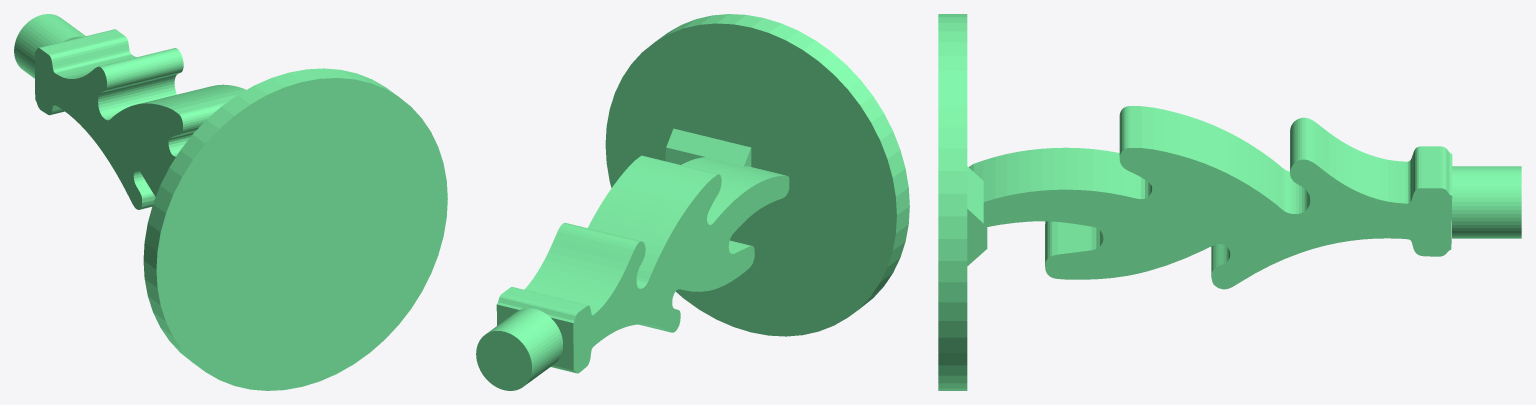
Rendered from mcrocket_flame.glb.
3 views of the same model, side by side, from view 1: azimuth 30°, elevation 25°; view 2: azimuth 150°, elevation 25°; view 3: azimuth 270°, elevation 25° (orthographic). The views are drawn at different scales.
Bounding box in the file's own units: 33.03 × 33.03 × 51.07.
